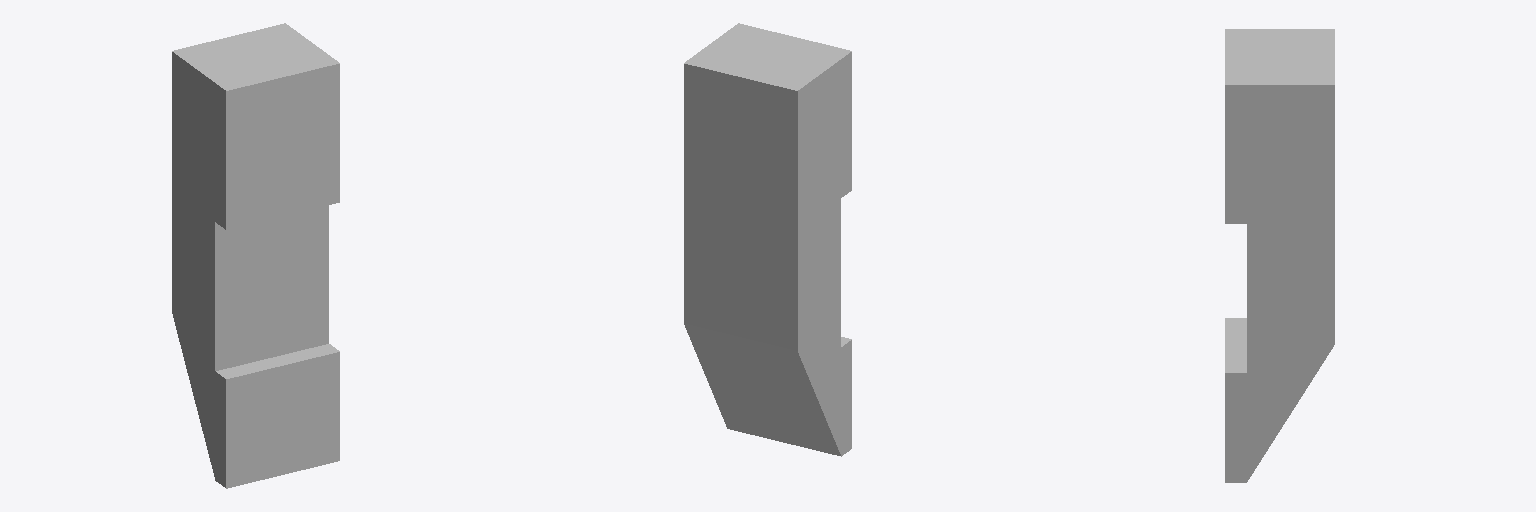
The model's file is PP_Gripper_2.obj.
3 renders of one model, left to right at view 1: azimuth 30°, elevation 25°; view 2: azimuth 150°, elevation 25°; view 3: azimuth 270°, elevation 25°, orthographic.
Visible parts, largest first — view 1: Salva i corpi1[1]; view 2: Salva i corpi1[1]; view 3: Salva i corpi1[1].
Boxes of the visible parts, box(x1,y1,x2,y2) form: Salva i corpi1[1]: box(172, 23, 339, 488); Salva i corpi1[1]: box(684, 23, 851, 456); Salva i corpi1[1]: box(1225, 29, 1334, 482).
Bounding box in the file's own units: 12 × 40 × 10.